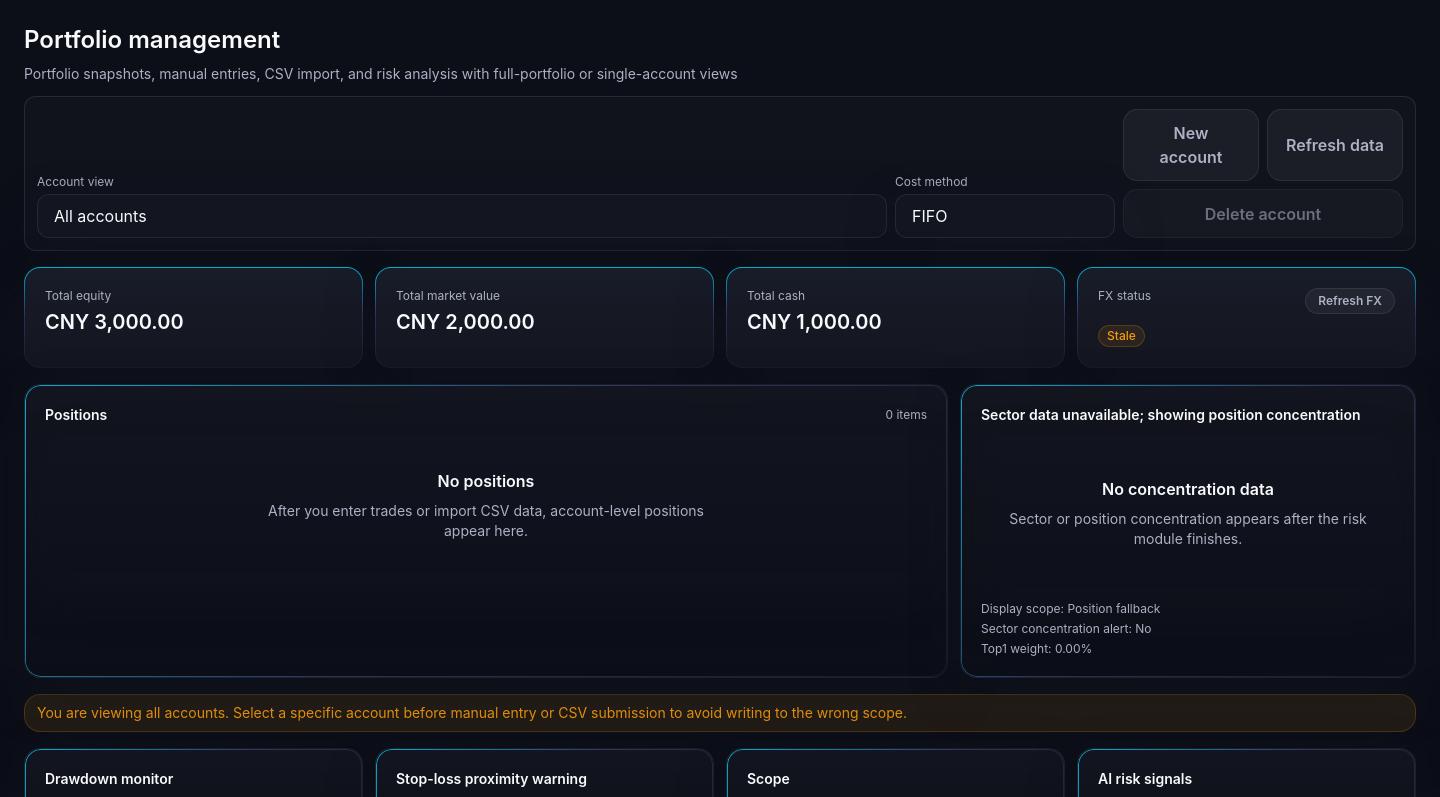
Scenario: PortfolioPage FX refresh › shows disabled feedback when FX online refresh is disabled even without a disabled reason
The image size is (1440, 797).
Click the button "Refresh FX" at (1350, 301), box 1305,288 -> 1395,314
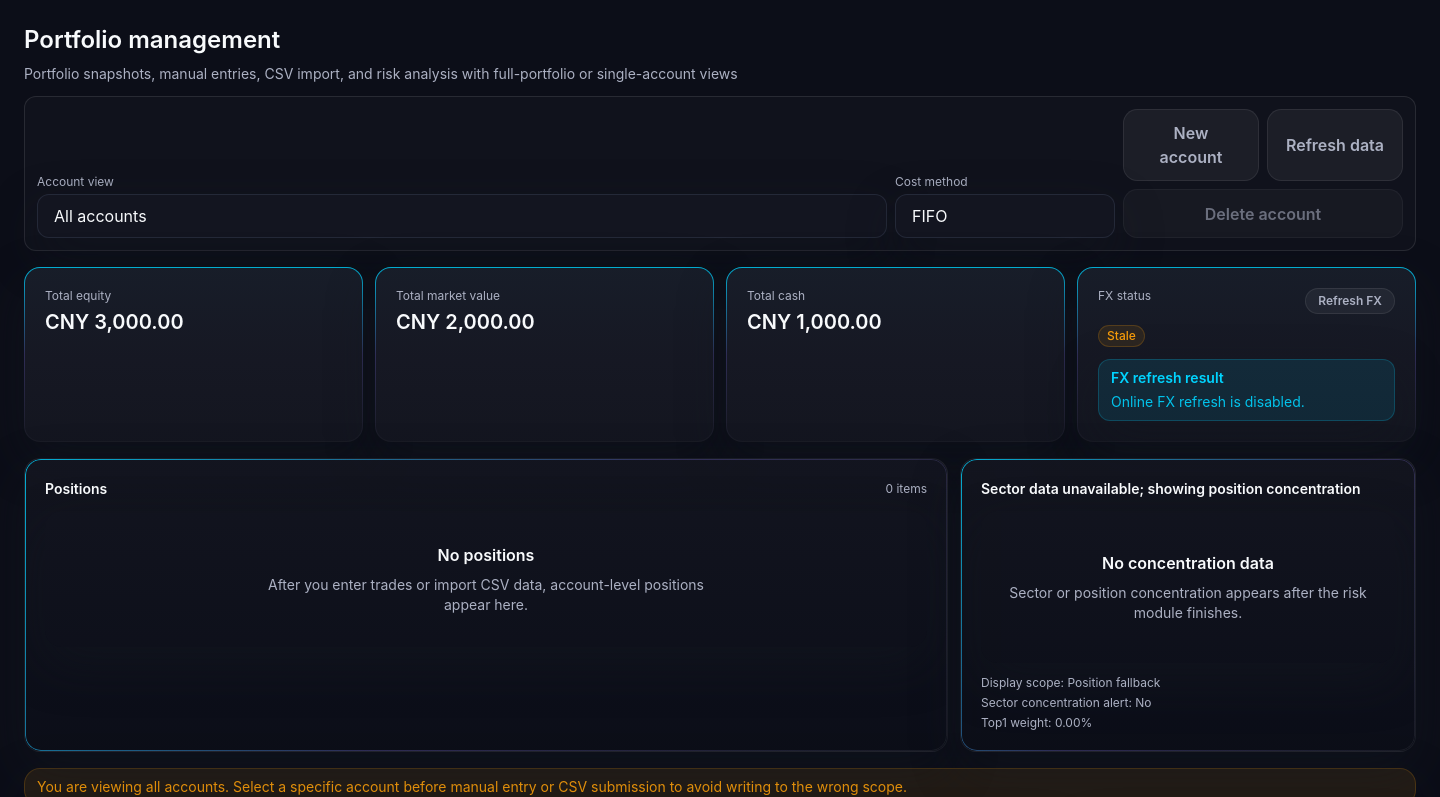
Expected: the text "Online FX refresh is disabled." is shown, 1111,392 -> 1305,412
